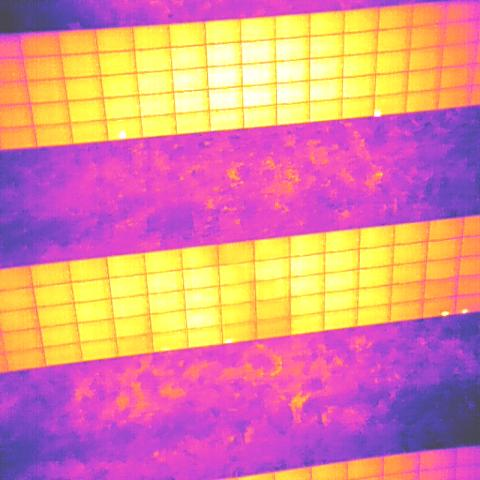fault: (118, 129, 126, 141), (461, 307, 470, 315), (223, 338, 235, 343), (440, 310, 450, 316), (374, 109, 381, 117)
